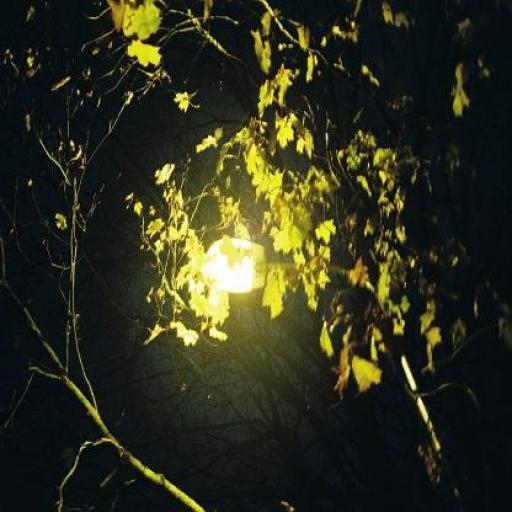street light: (198, 238, 465, 510)
